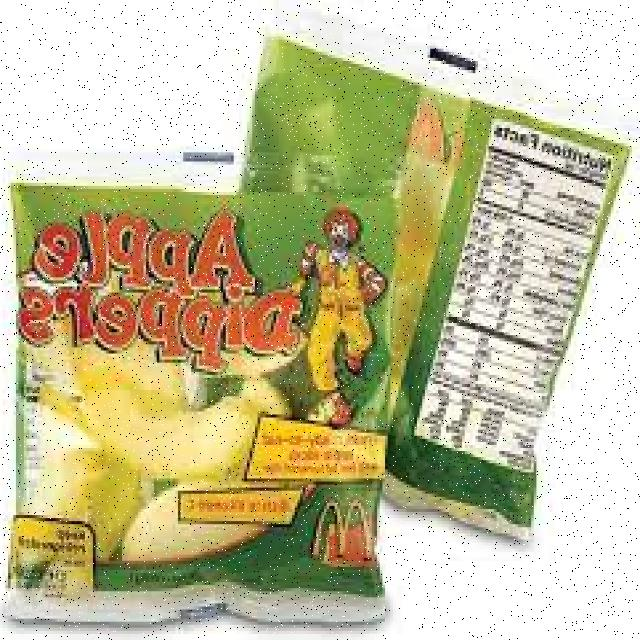Apple: (66, 394, 254, 488), (107, 485, 269, 567)
